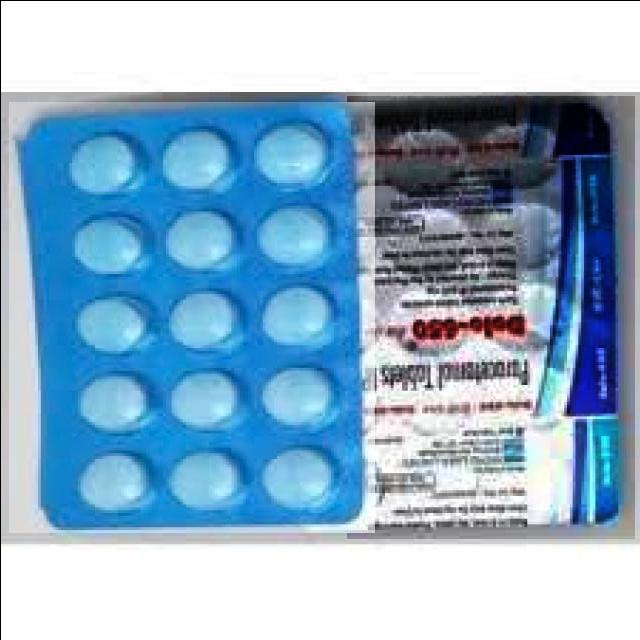authentic: (8, 101, 374, 532), (346, 95, 634, 538)
